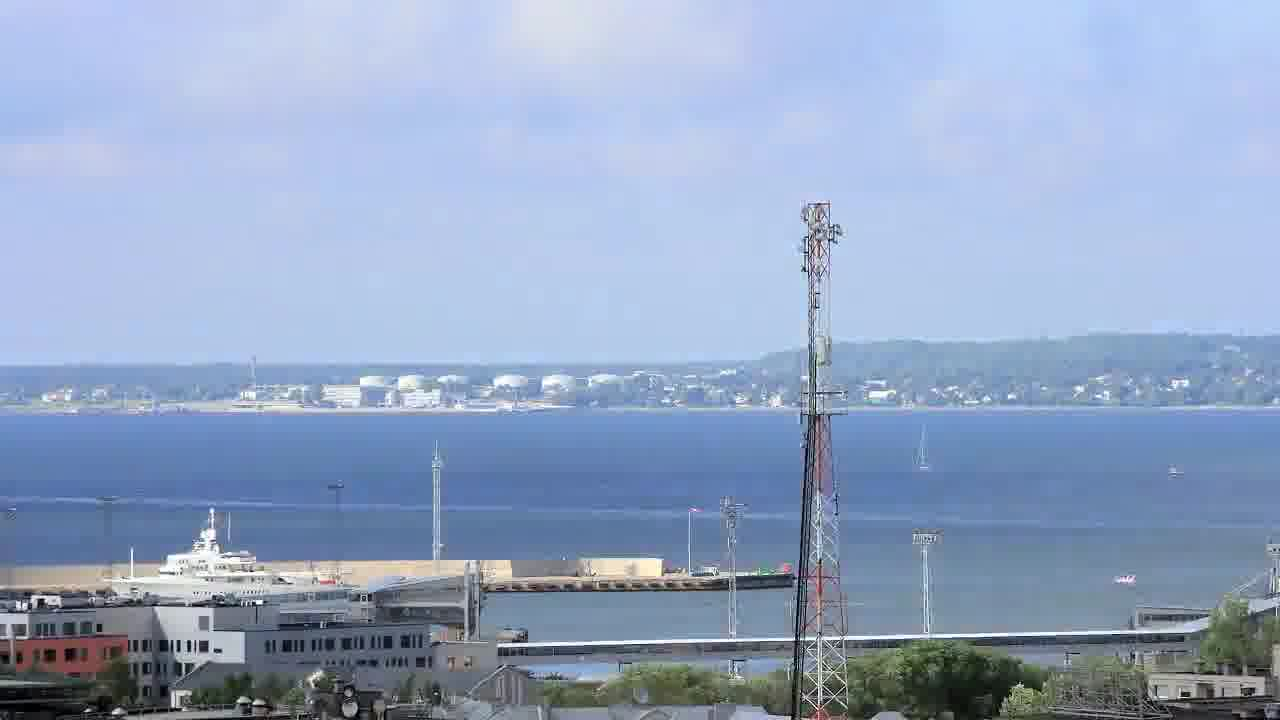type-2: (902, 418, 956, 483)
type-3: (96, 508, 381, 605)
type-4: (1101, 552, 1143, 598), (1150, 452, 1189, 483)
